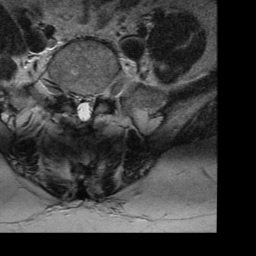CCS_normal: (80, 86, 87, 130)
LFS_stenosis: (96, 81, 104, 109)
LLS_normal: (87, 84, 97, 120)
RFS_normal: (64, 80, 73, 107)
RLS_normal: (73, 84, 81, 120)
